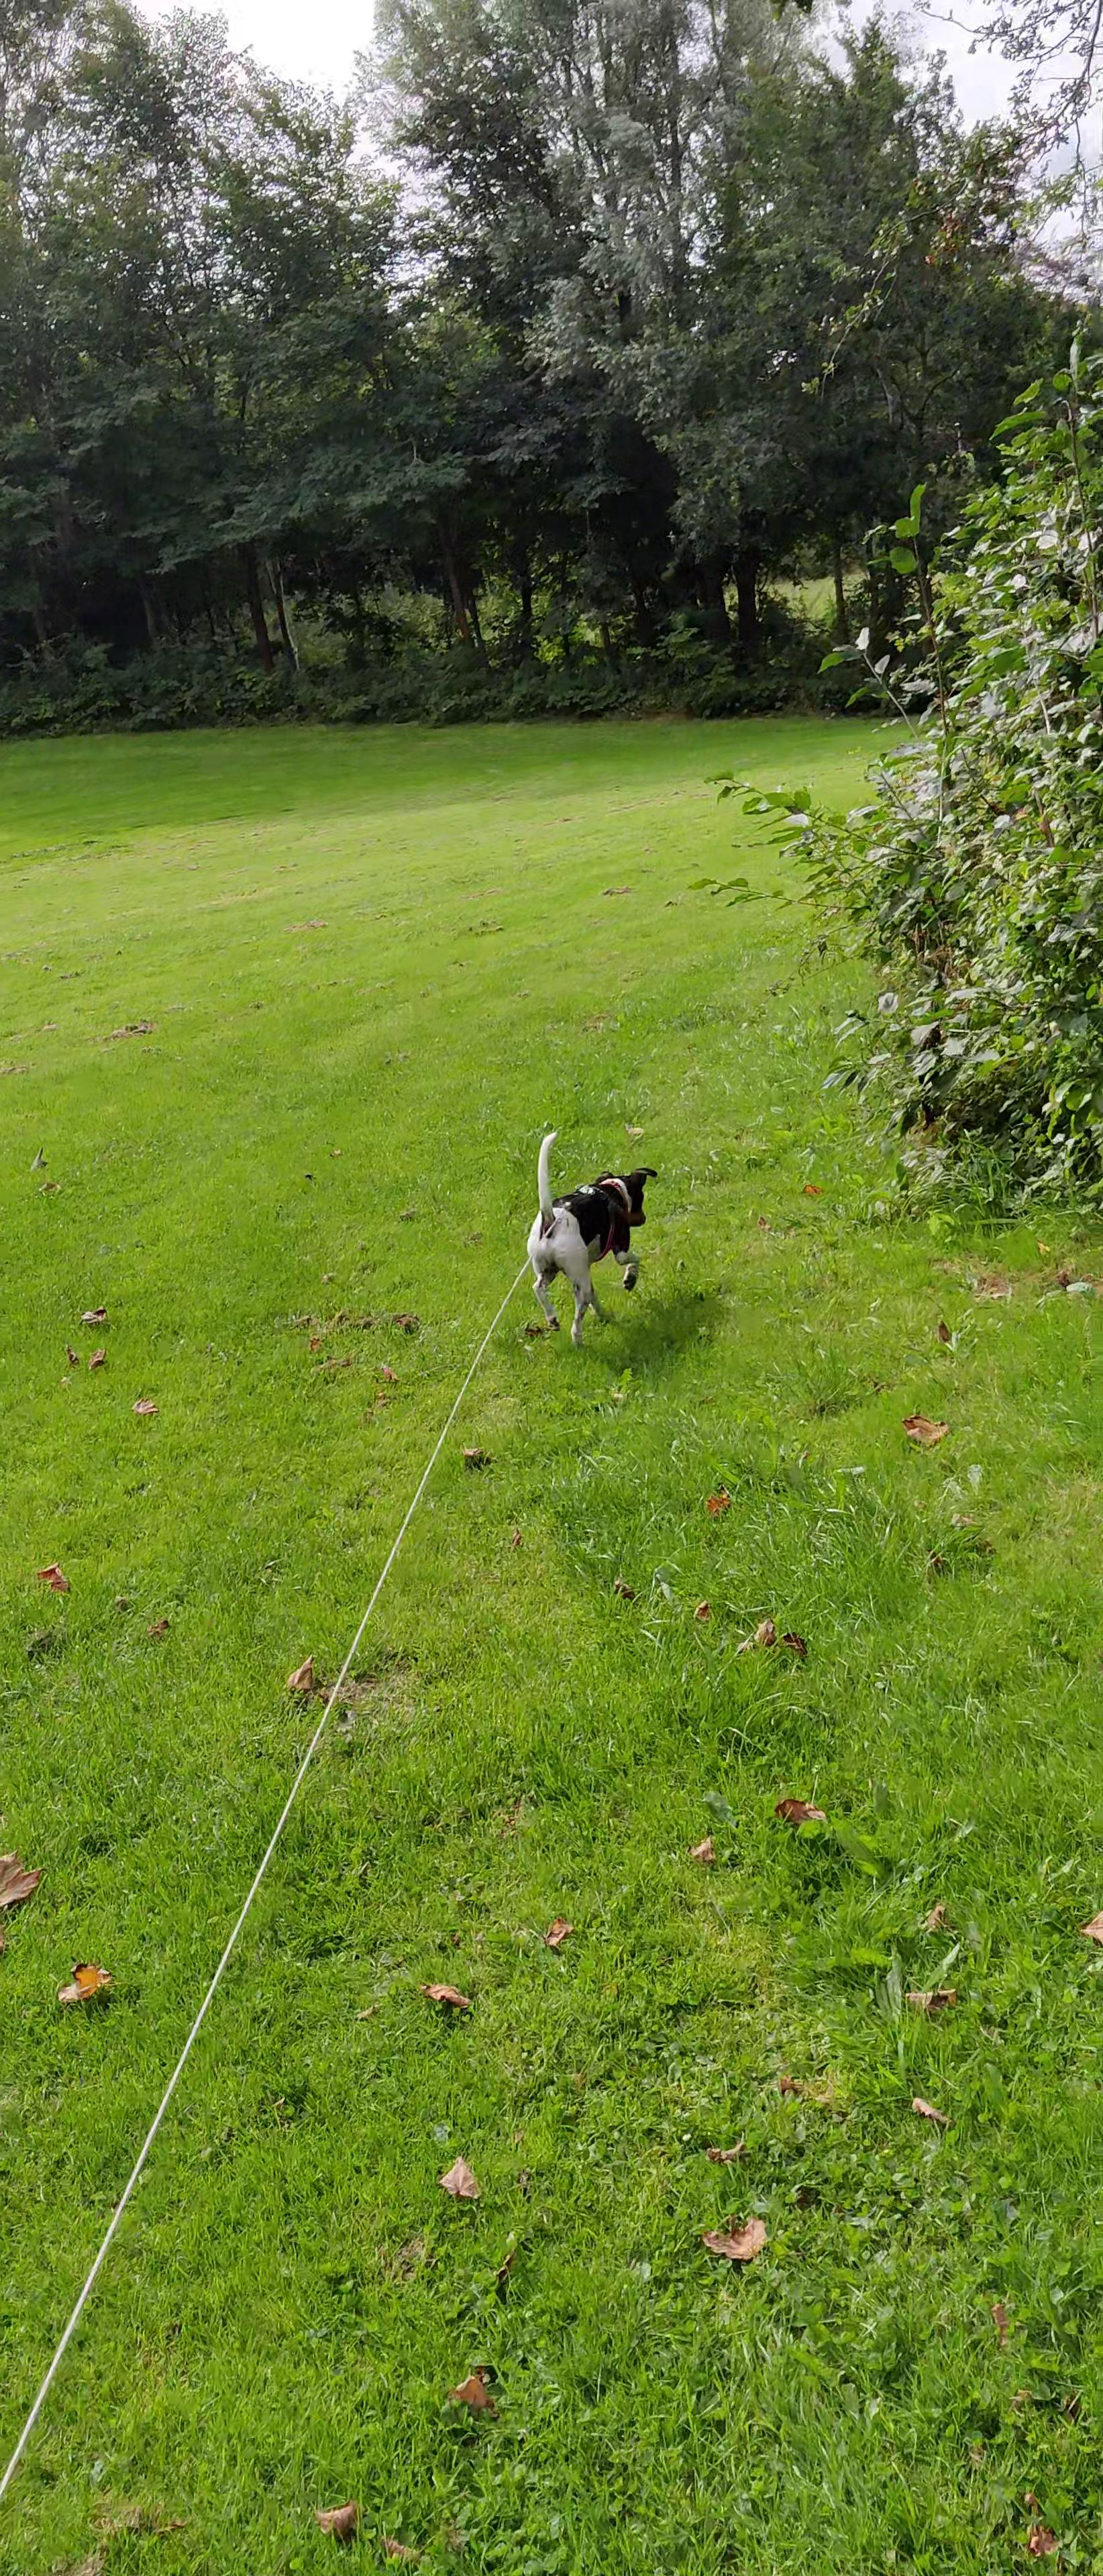Dog: (524, 1127, 658, 1350)
